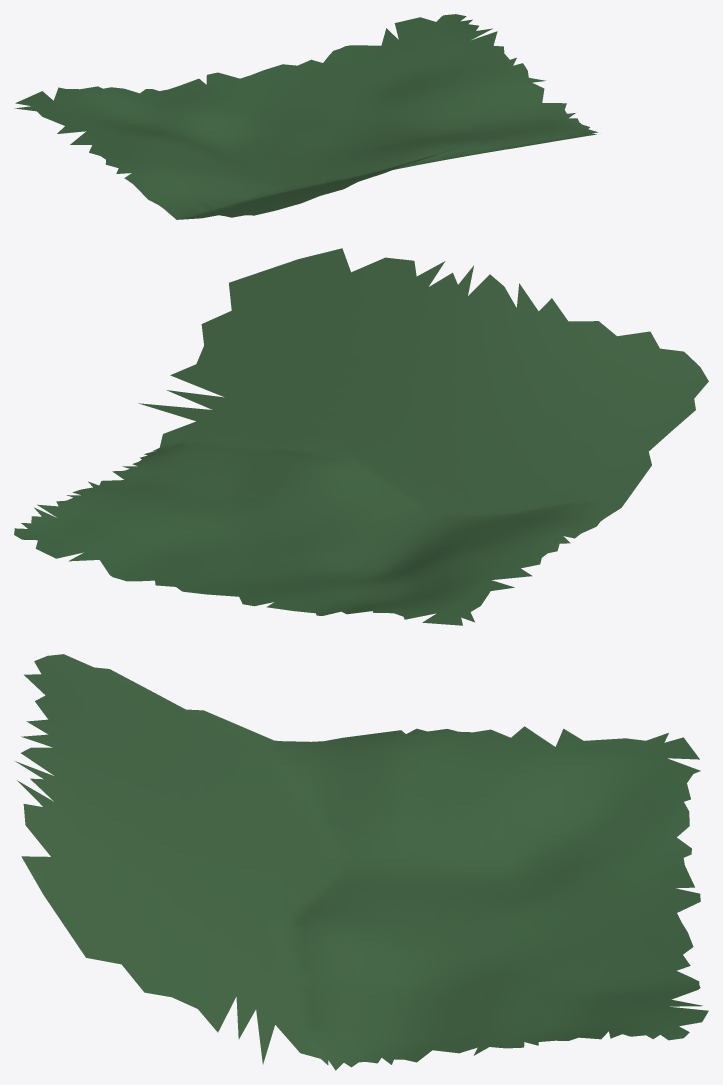
The model's file is payo_land_x1_y9.glb.
3 renders of one model, top to bottom at view 1: azimuth 30°, elevation 25°; view 2: azimuth 150°, elevation 25°; view 3: azimuth 270°, elevation 25°, orthographic. The views are drawn at different scales.
Parts seen in each view (by area): view 1: payo_land_x1_y9; view 2: payo_land_x1_y9; view 3: payo_land_x1_y9.
Boxes of the visible parts, <box> form: payo_land_x1_y9: <box>14,14,598,219</box>; payo_land_x1_y9: <box>14,248,708,625</box>; payo_land_x1_y9: <box>15,654,708,1070</box>.
Size of the model in its own units: 286 by 79.82 by 273.
